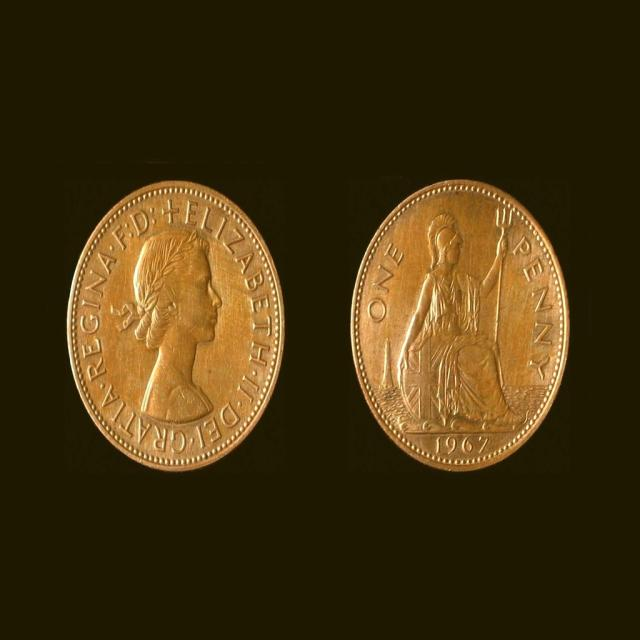Coin: (63, 182, 284, 477), (348, 179, 572, 467)
